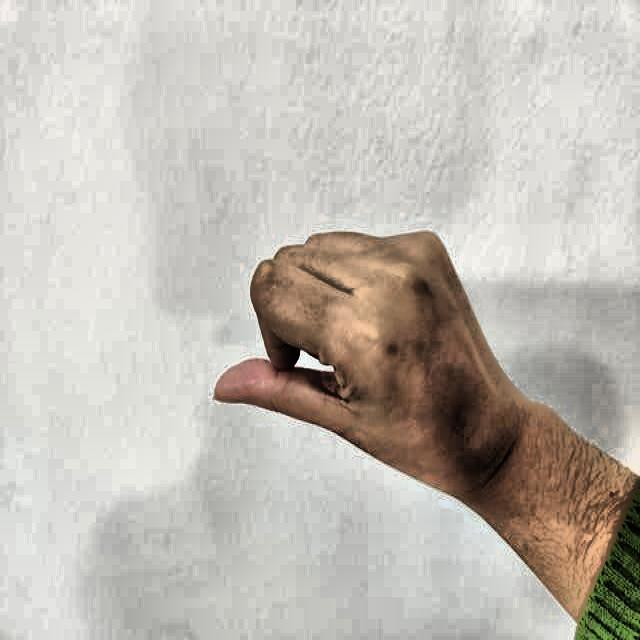Ay: (192, 176, 479, 524)
